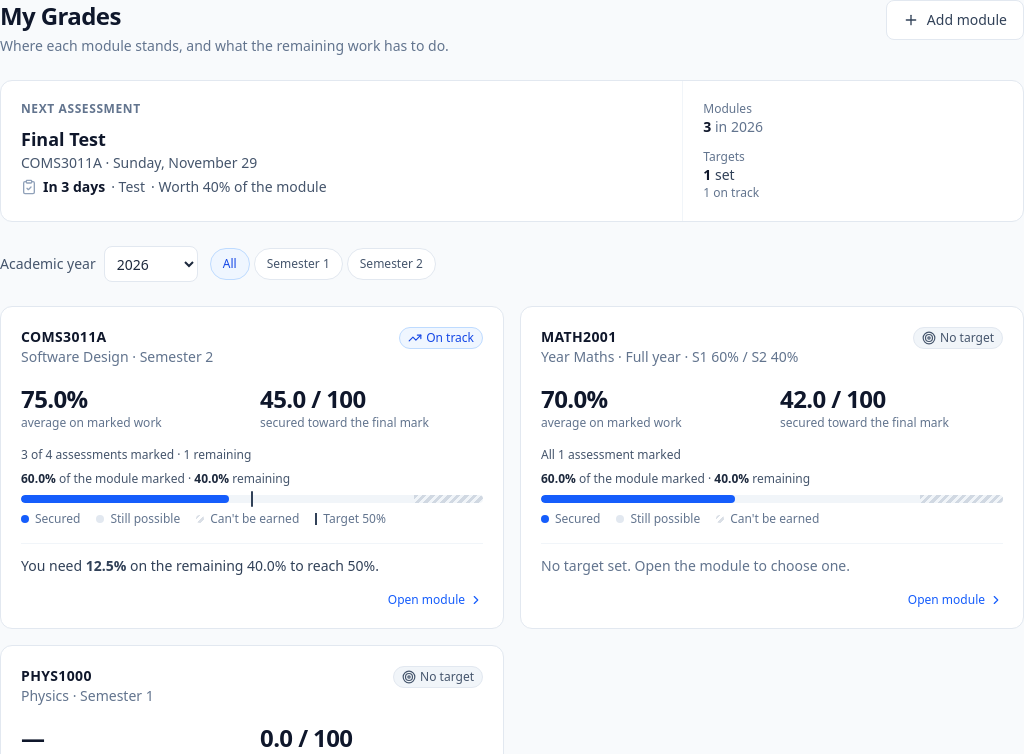
it: adding a module › needs a full-year split from the student, with no 50/50 default
The width and height of the screenshot is (1024, 754).
Check: the text "COMS3011A" is shown, box [21,327,106,346]
Click the button "Add module" at (955, 20), box [886,0,1023,40]
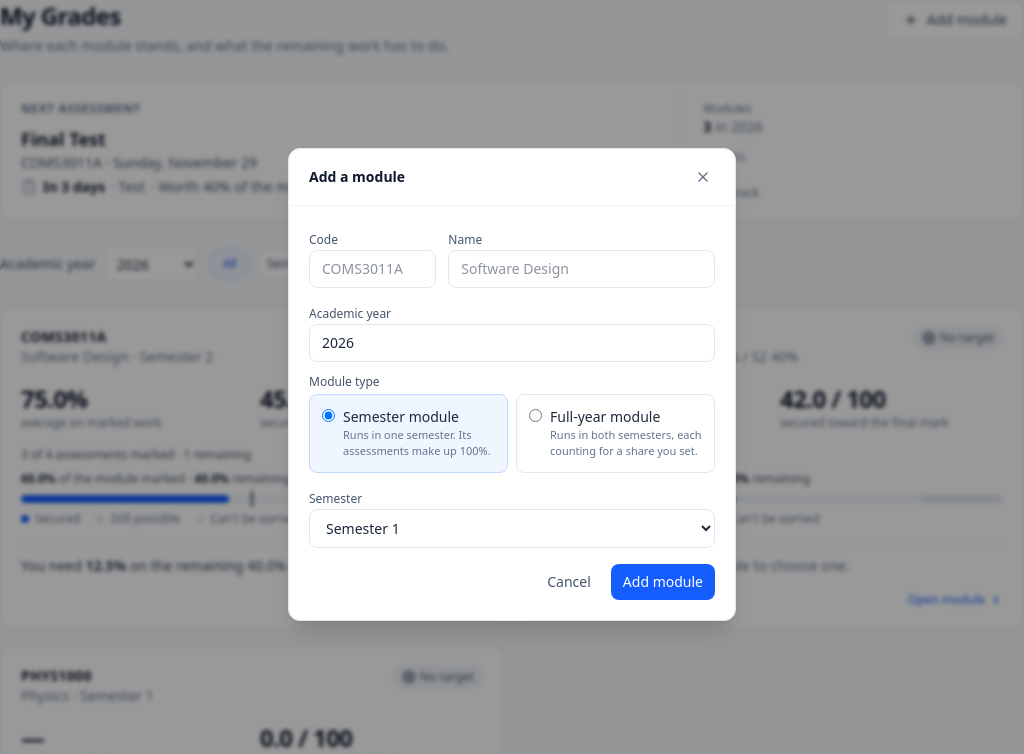
Type "coms2002" into the field with placeholder "COMS3011A" at (373, 268), box [309,250,436,288]
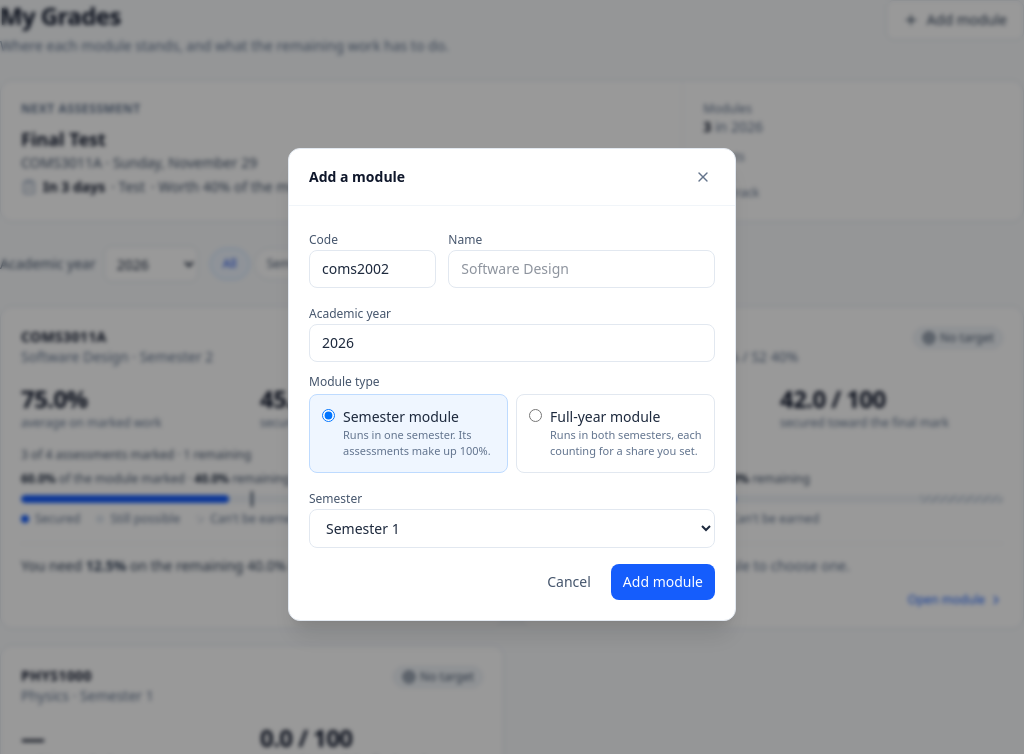
Type "Databases" into the field with placeholder "Software Design" at (582, 268), box [448,250,715,288]
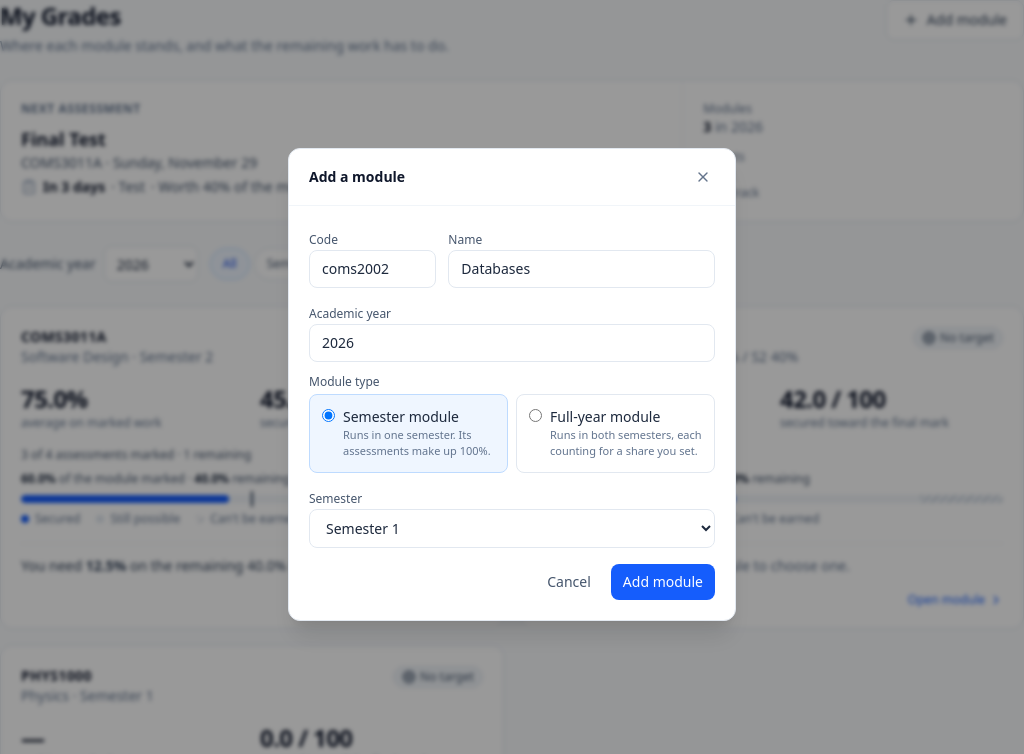
Click the radio button labelled "Full-year module" at (536, 415), box [529,408,542,422]
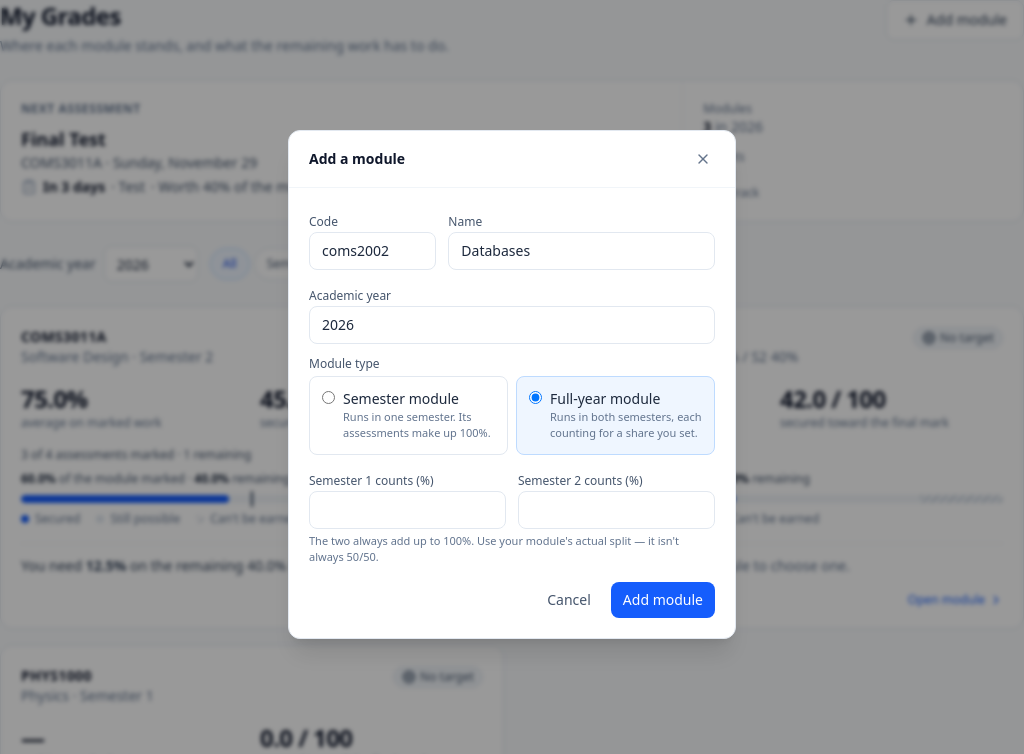
Check: the number field labelled "Semester 1 counts (%)" is not empty, box [309,490,506,528]
Click the button "Add module" at (663, 600), box [611,582,715,618]
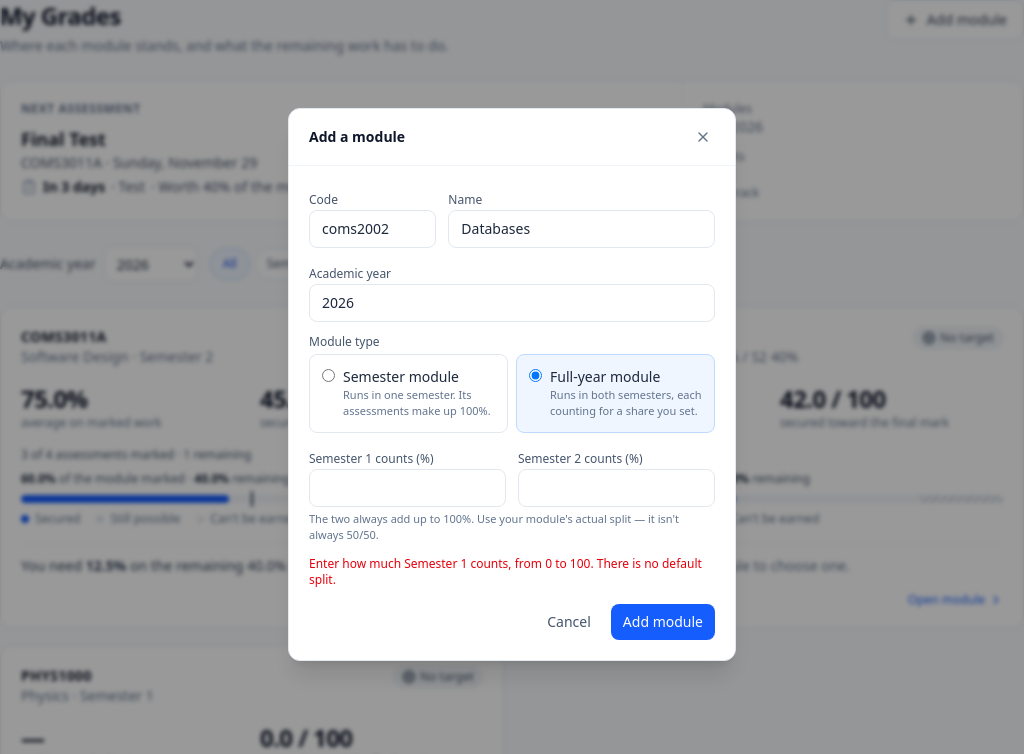
Check: the text "There is no default split" is shown, box [309,554,702,588]
